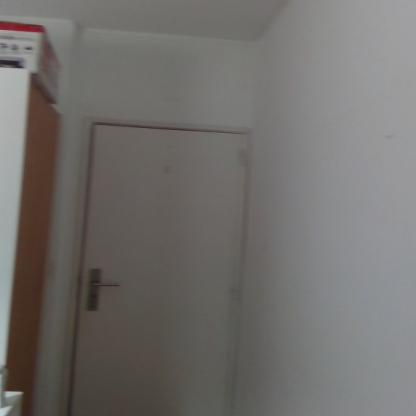door: (82, 122, 252, 416)
hinged: (240, 146, 250, 169), (232, 281, 242, 301)
lever: (92, 280, 124, 288)
